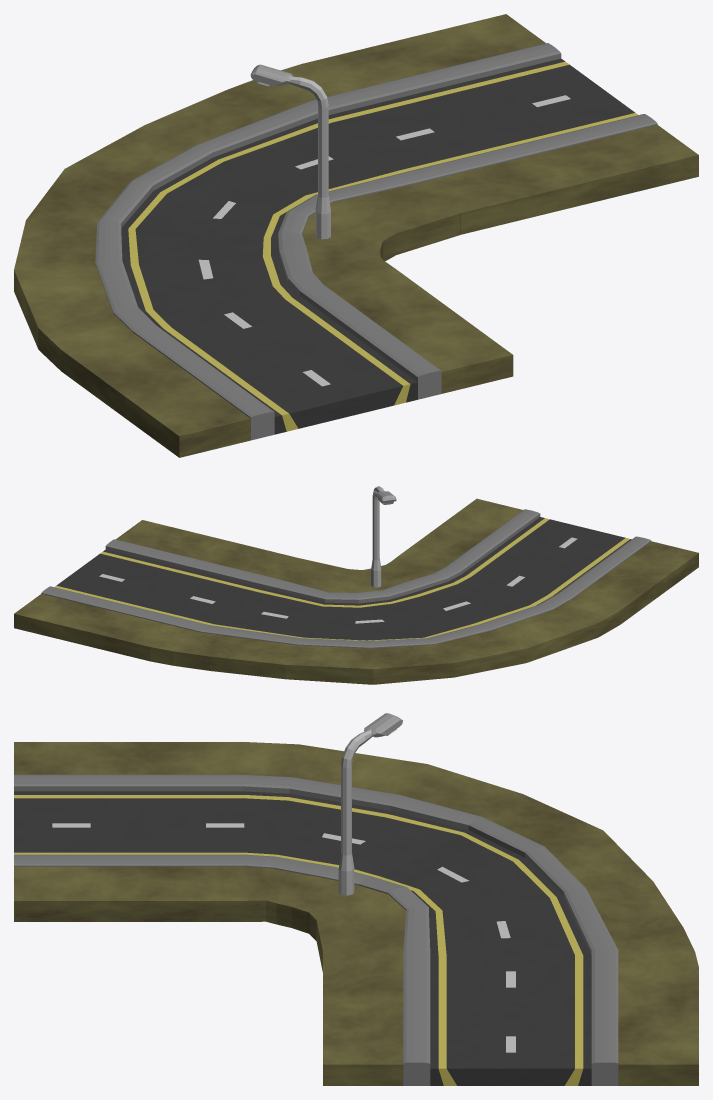
The model's file is Road(Curved).fbx.
The picture shows the model from 3 angles, top to bottom: view 1: azimuth 30°, elevation 25°; view 2: azimuth 150°, elevation 25°; view 3: azimuth 270°, elevation 25°; orthographic projection. The views are drawn at different scales.
Visible parts, largest first — view 1: Road.003; view 2: Road.003; view 3: Road.003.
Boxes of the visible parts, x1,y1,x2,y2 form: Road.003: (14,14,698,457); Road.003: (14,486,698,684); Road.003: (14,713,698,1085).
Bounding box in the file's own units: 2843 × 740 × 2550.
Materials: 8 (2 with a texture image).
